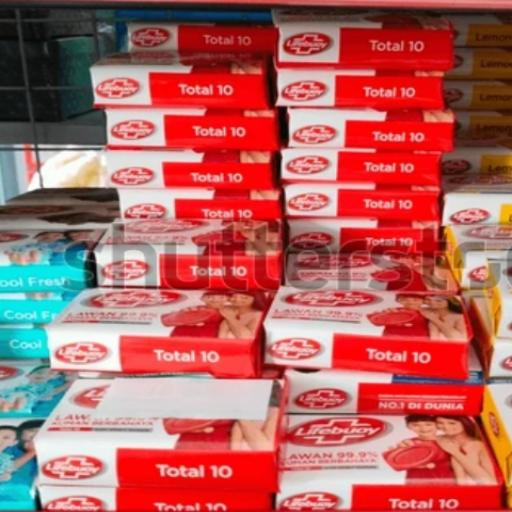lifebuoy: (30, 369, 279, 482), (282, 412, 487, 512), (47, 290, 264, 373), (272, 281, 474, 368), (99, 110, 284, 164), (281, 370, 482, 414), (81, 58, 247, 110), (282, 71, 444, 115), (287, 214, 450, 257), (91, 18, 266, 58), (283, 25, 440, 66), (295, 118, 449, 152), (283, 188, 442, 220), (286, 157, 437, 188), (112, 198, 289, 224), (106, 166, 258, 190)
